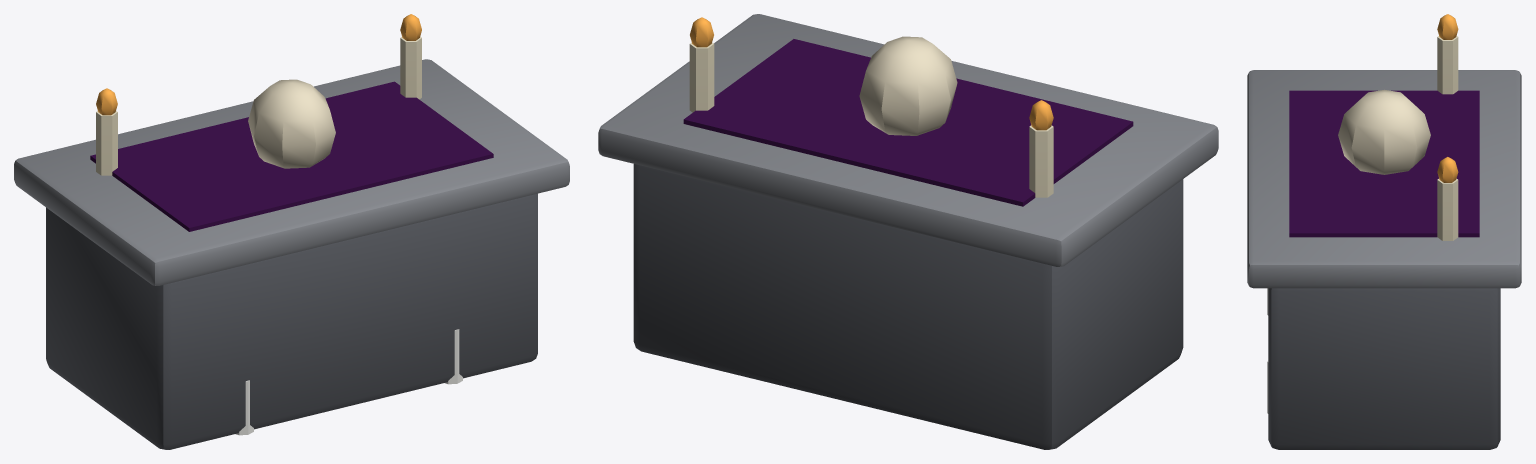
File: altar.glb
3 views of the same model, side by side, from view 1: azimuth 30°, elevation 25°; view 2: azimuth 150°, elevation 25°; view 3: azimuth 270°, elevation 25° (orthographic). The views are drawn at different scales.
Visible parts, largest first — view 1: altar, altar_craft; view 2: altar; view 3: altar.
Part boxes in pixels (x1=…): altar: x1=14, y1=14, x2=569, y2=449; altar_craft: x1=235, y1=329, x2=462, y2=435; altar: x1=598, y1=14, x2=1218, y2=449; altar: x1=1247, y1=14, x2=1521, y2=449.
Bounding box in the file's own units: 2.2 × 1.46 × 1.3.
